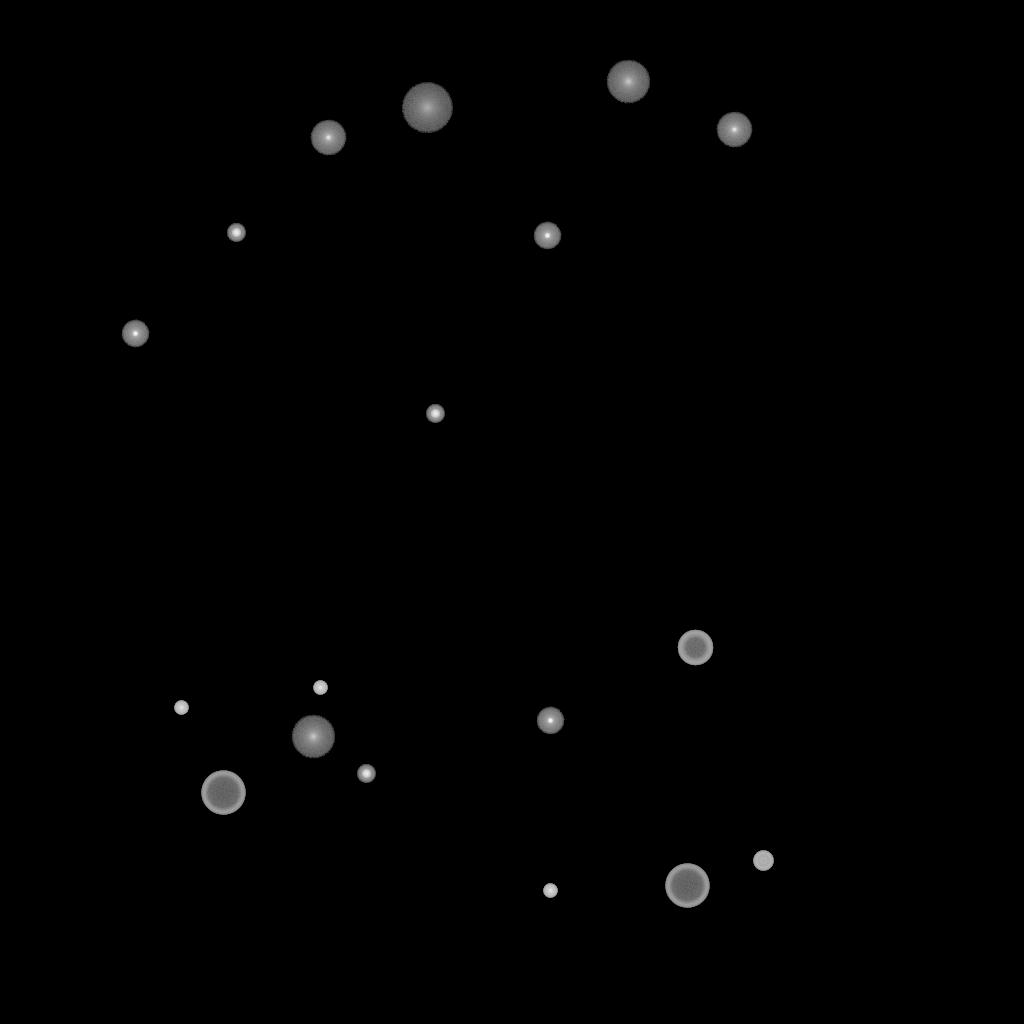depth:-10: (536, 707, 564, 735), (533, 222, 561, 250), (121, 320, 149, 348)
depth:-20: (227, 224, 245, 242), (357, 765, 375, 783), (426, 405, 444, 423)
depth:-30: (313, 681, 327, 695), (174, 701, 188, 715), (543, 884, 557, 898)
depth:-40: (753, 851, 773, 871)
depth:-60: (677, 630, 713, 666)
depth:-70: (201, 771, 245, 815), (665, 864, 709, 908)
depth:0: (716, 112, 752, 148), (310, 120, 346, 156)
depth:10: (291, 715, 335, 759), (606, 60, 650, 104)
depth:20: (401, 83, 453, 133)
